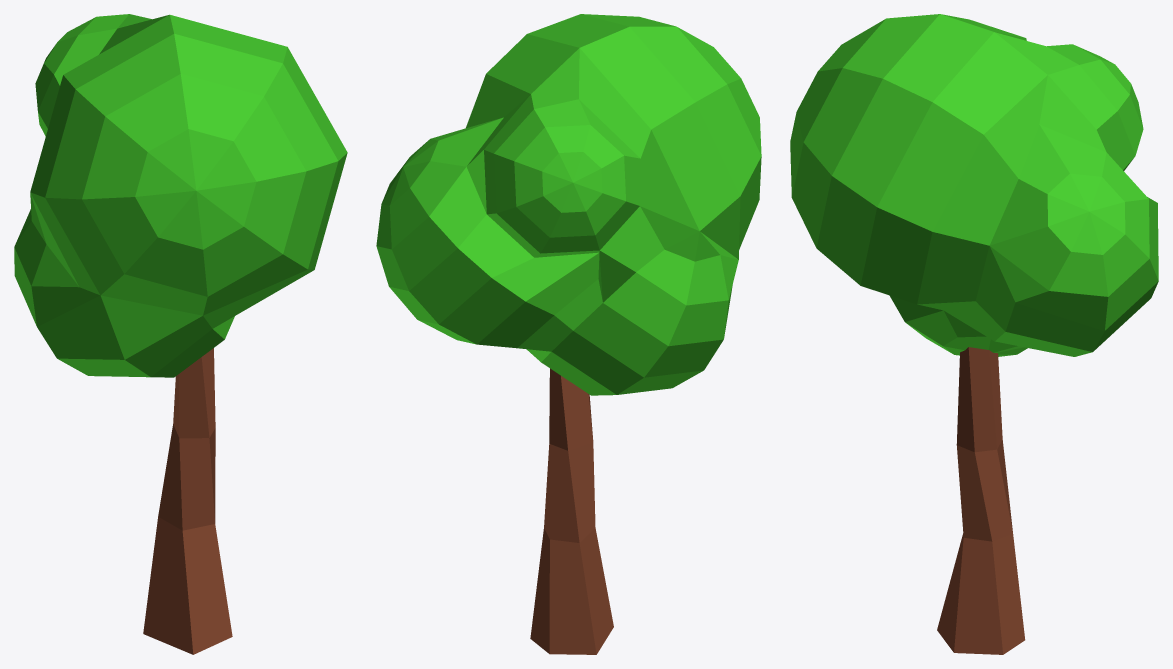
The model's file is Tree.fbx.
3 views of the same model, side by side, from view 1: azimuth 30°, elevation 25°; view 2: azimuth 150°, elevation 25°; view 3: azimuth 270°, elevation 25° (orthographic). The views are drawn at different scales.
Visible parts, largest first — view 1: Sphere.003; view 2: Sphere.003; view 3: Sphere.003.
Part boxes in pixels (box(x1,y1,x2,y2)): Sphere.003: box(14, 14, 347, 654); Sphere.003: box(376, 14, 761, 654); Sphere.003: box(790, 14, 1158, 654).
Bounding box in the file's own units: 549 × 1051 × 578.
